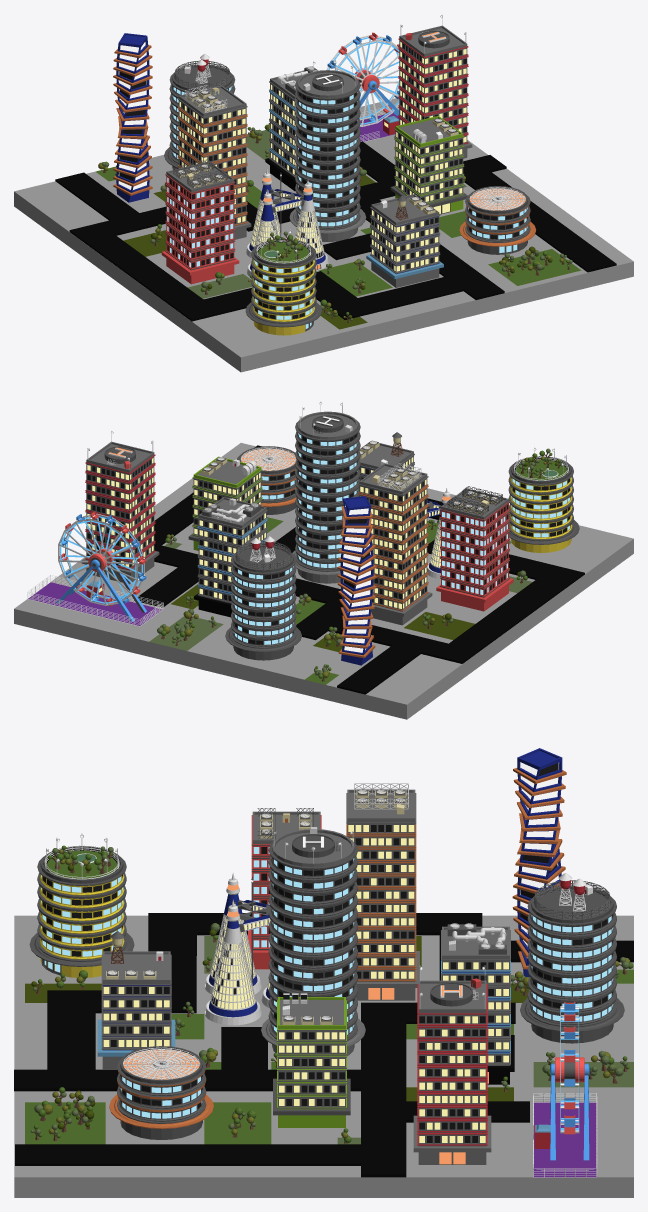
The model's file is isometric-cityscape.glb.
3 renders of one model, top to bottom at view 1: azimuth 30°, elevation 25°; view 2: azimuth 150°, elevation 25°; view 3: azimuth 270°, elevation 25°, orthographic. The views are drawn at different scales.
Visible parts, largest first — view 1: CityBase, CityBase.001, CircleBuildFloors.001, Cube.001, SquareBuildFloors.004, SquareBuildFloors.007, SquareBuildFloors.002, SquareBuildFloors.003, CircleBuildFloors.003, SquareBuildFloors.005, Cone.002, SquareBuildFloors.006 (+23 smaller); view 2: CityBase, CityBase.001, CircleBuildFloors.001, SquareBuildFloors.002, SquareBuildFloors.007, SquareBuildFloors.004, Cube.001, CircleBuildFloors.004, CircleBuildFloors.003, SquareBuildFloors.006, FerrisMainWheel, SquareBuildFloors.003 (+26 smaller); view 3: CityBase, CityBase.001, CircleBuildFloors.001, SquareBuildFloors.002, SquareBuildFloors.007, CircleBuildFloors.004, Cube.001, CircleBuildFloors.003, Cone.002, SquareBuildFloors.003, SquareBuildFloors.005, CircleBuildFloors.002 (+28 smaller).
Part boxes in pixels (bbox=[...]): CityBase: bbox=[14, 98, 633, 372]; CityBase.001: bbox=[55, 141, 616, 321]; CircleBuildFloors.001: bbox=[295, 78, 360, 230]; Cube.001: bbox=[113, 33, 152, 202]; SquareBuildFloors.004: bbox=[165, 174, 235, 270]; SquareBuildFloors.007: bbox=[398, 38, 468, 144]; SquareBuildFloors.002: bbox=[177, 98, 247, 226]; SquareBuildFloors.003: bbox=[394, 129, 464, 203]; CircleBuildFloors.003: bbox=[251, 247, 316, 323]; SquareBuildFloors.005: bbox=[370, 207, 440, 274]; Cone.002: bbox=[246, 169, 328, 276]; SquareBuildFloors.006: bbox=[269, 81, 296, 177]; CityBase: bbox=[14, 443, 633, 719]; CityBase.001: bbox=[134, 445, 584, 694]; CircleBuildFloors.001: bbox=[295, 420, 360, 571]; SquareBuildFloors.002: bbox=[358, 476, 428, 611]; SquareBuildFloors.007: bbox=[85, 454, 155, 570]; SquareBuildFloors.004: bbox=[440, 501, 509, 597]; Cube.001: bbox=[337, 496, 376, 665]; CircleBuildFloors.004: bbox=[231, 553, 296, 648]; CircleBuildFloors.003: bbox=[508, 464, 573, 541]; SquareBuildFloors.006: bbox=[197, 510, 267, 603]; FerrisMainWheel: bbox=[58, 513, 144, 605]; SquareBuildFloors.003: bbox=[192, 469, 262, 536]; CityBase: bbox=[14, 915, 633, 1197]; CityBase.001: bbox=[14, 913, 633, 1177]; CircleBuildFloors.001: bbox=[268, 840, 357, 1040]; SquareBuildFloors.002: bbox=[346, 793, 416, 981]; SquareBuildFloors.007: bbox=[417, 984, 487, 1146]; CircleBuildFloors.004: bbox=[527, 897, 616, 1027]; Cube.001: bbox=[512, 748, 566, 976]; CircleBuildFloors.003: bbox=[37, 856, 126, 961]; Cone.002: bbox=[204, 873, 270, 1025]; SquareBuildFloors.003: bbox=[277, 1000, 346, 1109]; SquareBuildFloors.005: bbox=[101, 954, 171, 1050]; CircleBuildFloors.002: bbox=[117, 1057, 206, 1123].
Size of the model in its own units: 9.8 by 4.11 by 9.8.
